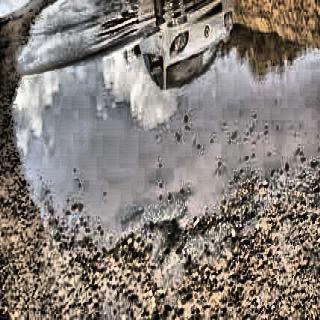pothole: (7, 0, 320, 278)
